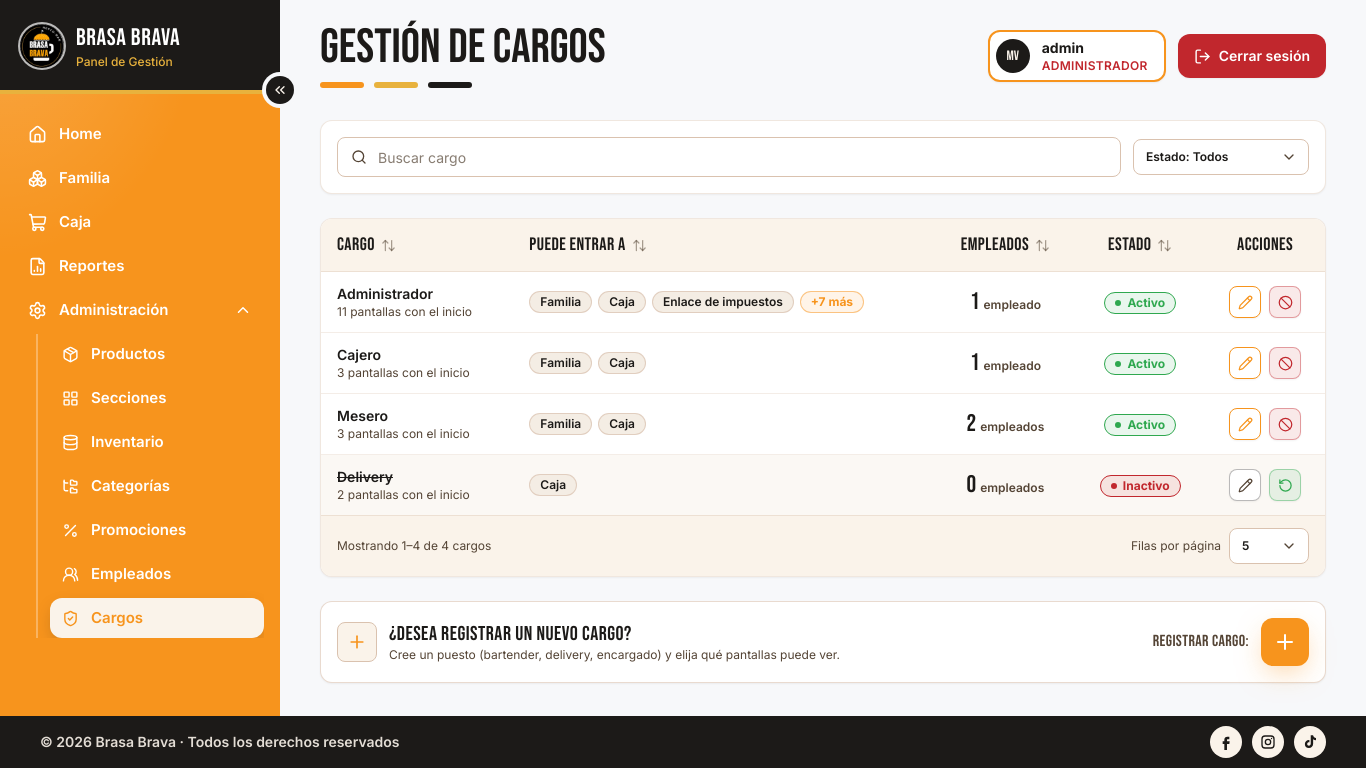
Gestión de cargos › muestra el aviso del servidor si el cargo tiene empleados y reactiva uno de baja
Check: the text "Mesero" is shown, box [337,407,388,424]
Click the button named "Dar de baja Mesero" at {"x": 1285, "y": 424}, box [1269,408,1301,440]
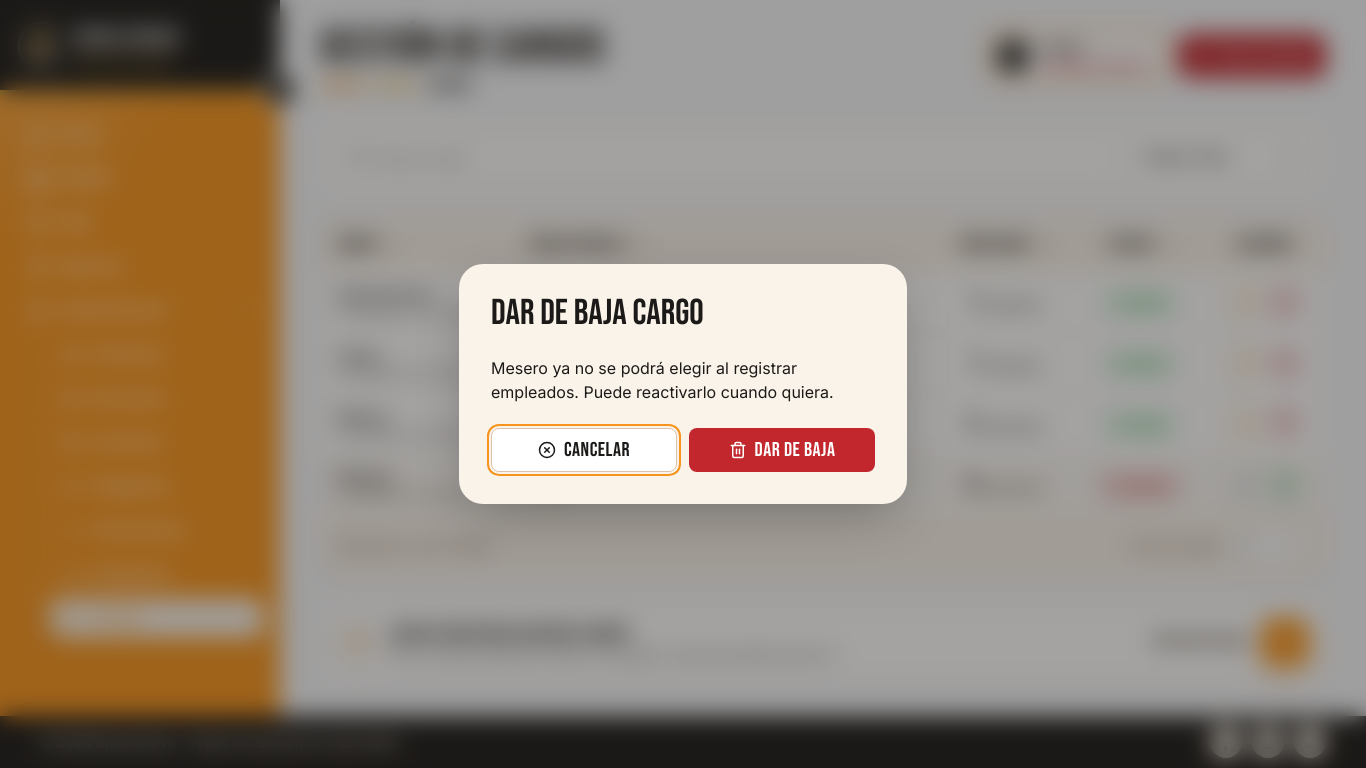
Click the button "Dar de baja" at {"x": 782, "y": 450}, box [689,428,875,472]
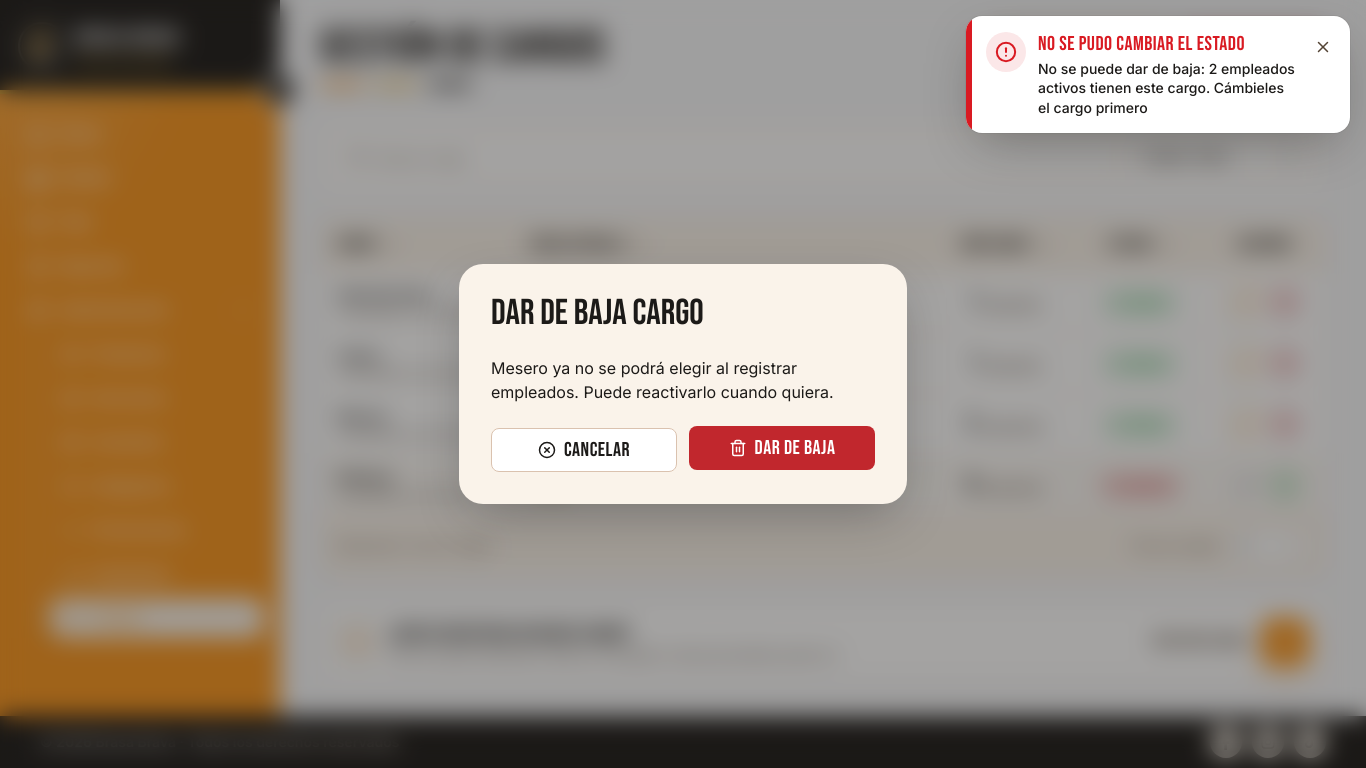
Check: the message shows "2 empleados activos tienen este cargo", box [1038,60,1295,116]
Click the button "Cancelar" at {"x": 584, "y": 450}, box [491,428,677,472]
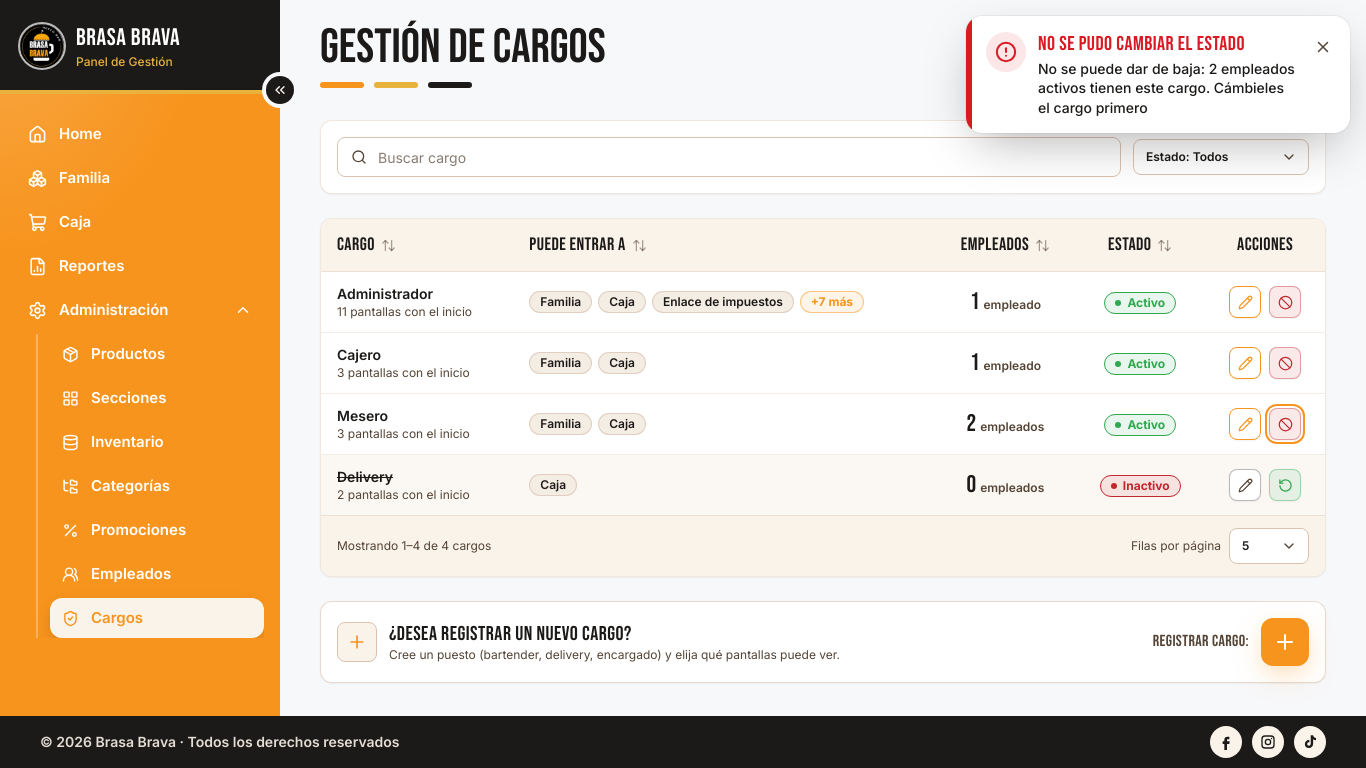
Click the button named "Reactivar Delivery" at {"x": 1285, "y": 485}, box [1269,469,1301,501]
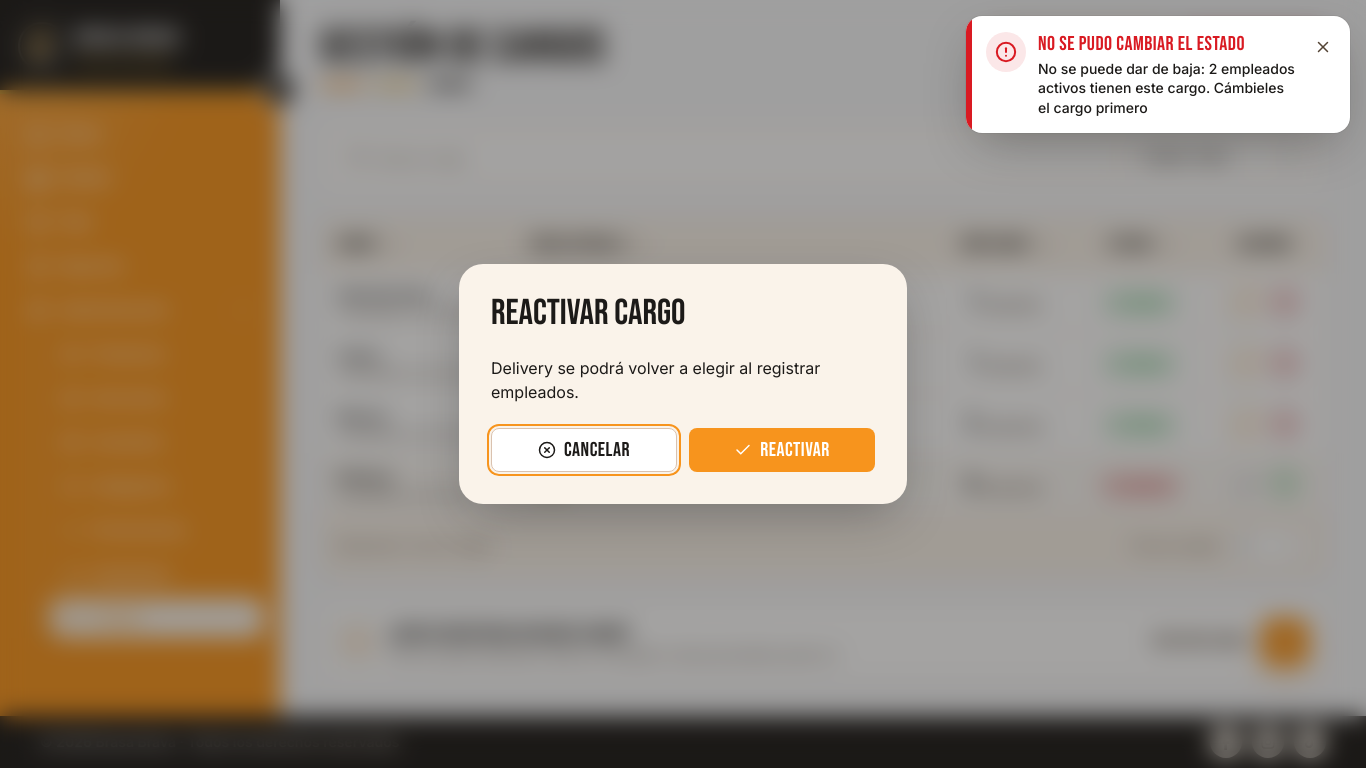
Click the button "Reactivar" at {"x": 782, "y": 450}, box [689,428,875,472]
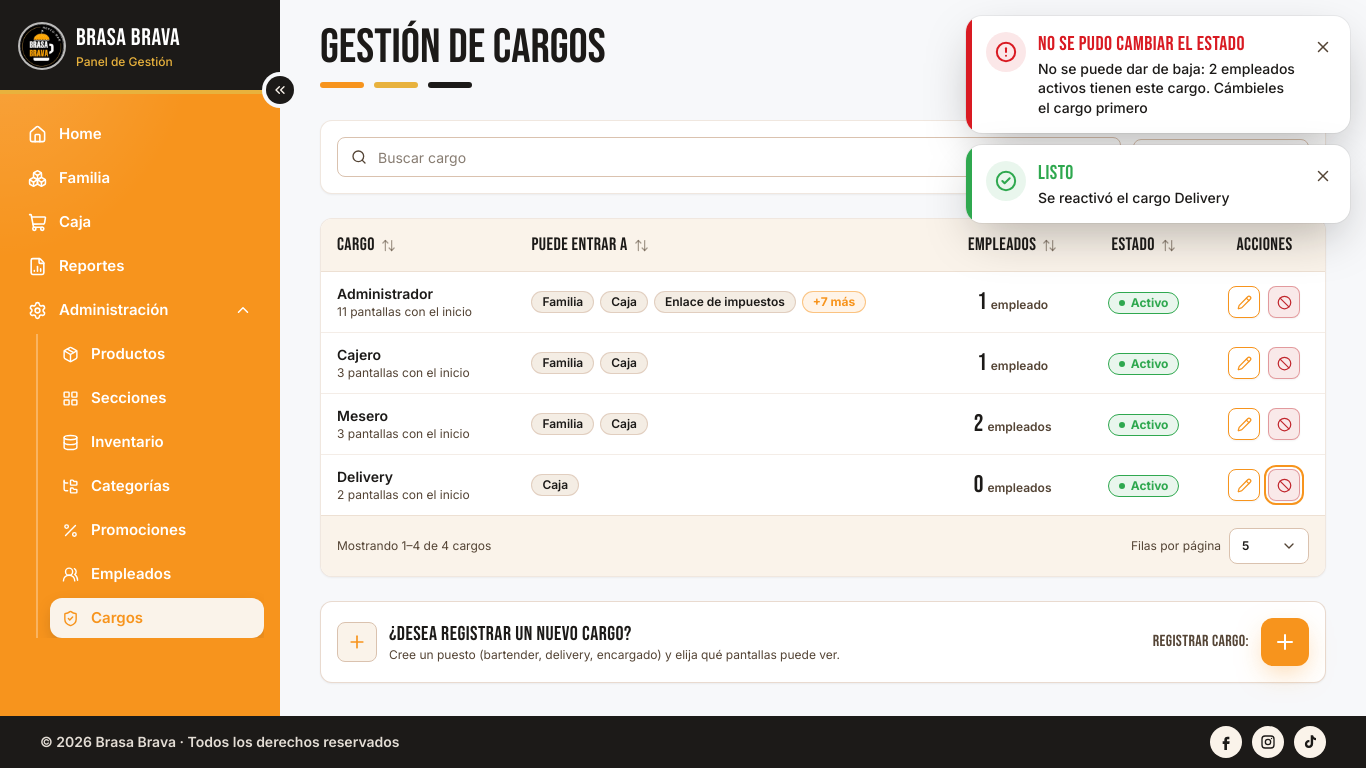
Check: the text "Se reactivó el cargo Delivery" is shown, box [1038,189,1230,206]
